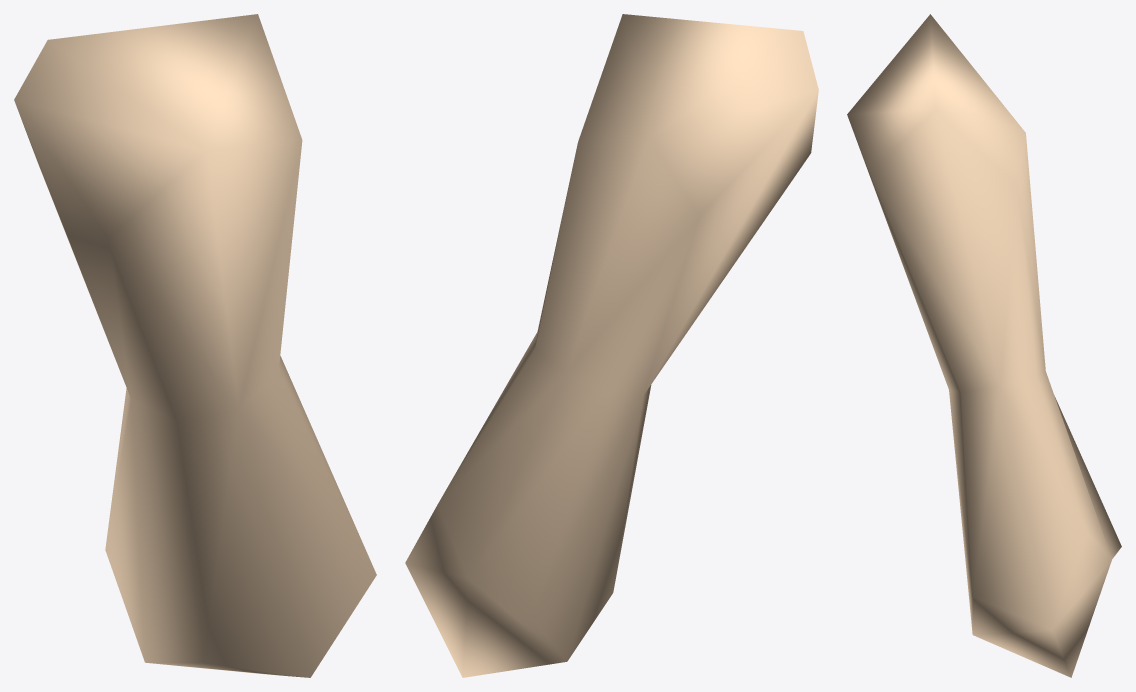
The model's file is playerLeftArm.obj.
The picture shows the model from 3 angles, left to right: view 1: azimuth 30°, elevation 25°; view 2: azimuth 150°, elevation 25°; view 3: azimuth 270°, elevation 25°; orthographic projection. The views are drawn at different scales.
Parts seen in each view (by area): view 1: 左腕; view 2: 左腕; view 3: 左腕.
Part boxes in pixels (x1,y1,x2,y2): 左腕: [14, 14, 376, 677]; 左腕: [405, 14, 818, 677]; 左腕: [847, 14, 1121, 677].
Size of the model in its own units: 0.732 by 1.3 by 0.5835.
Materials: 1 (1 with a texture image).
